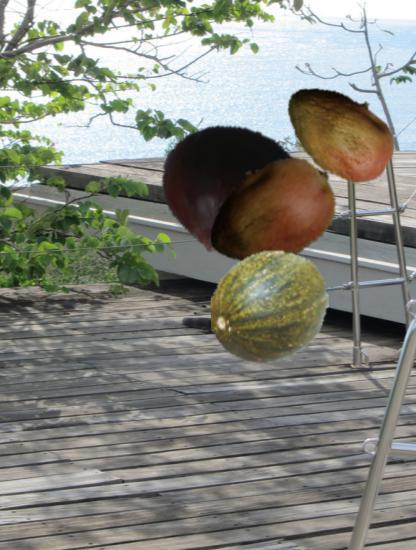Chestnut: (159, 119, 302, 262)
Melon: (211, 248, 329, 366)
Papaya: (201, 143, 341, 283), (278, 70, 401, 193)
